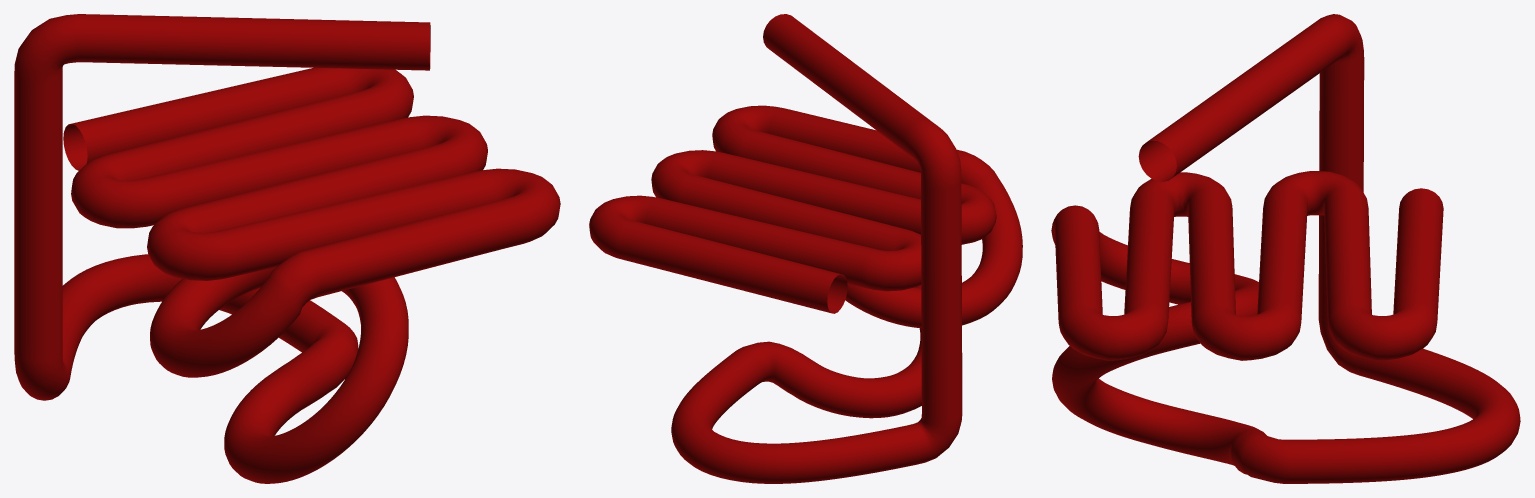
File: Chang2.fbx
3 renders of one model, left to right at view 1: azimuth 30°, elevation 25°; view 2: azimuth 150°, elevation 25°; view 3: azimuth 270°, elevation 25°, orthographic. The views are drawn at different scales.
Parts seen in each view (by area): view 1: pCylinder14Shape; view 2: pCylinder14Shape; view 3: pCylinder14Shape.
Boxes of the visible parts, x1=… form: pCylinder14Shape: x1=14, y1=14, x2=560, y2=483; pCylinder14Shape: x1=589, y1=14, x2=1022, y2=483; pCylinder14Shape: x1=1051, y1=14, x2=1520, y2=483.
Size of the model in its own units: 196 by 193 by 211.
